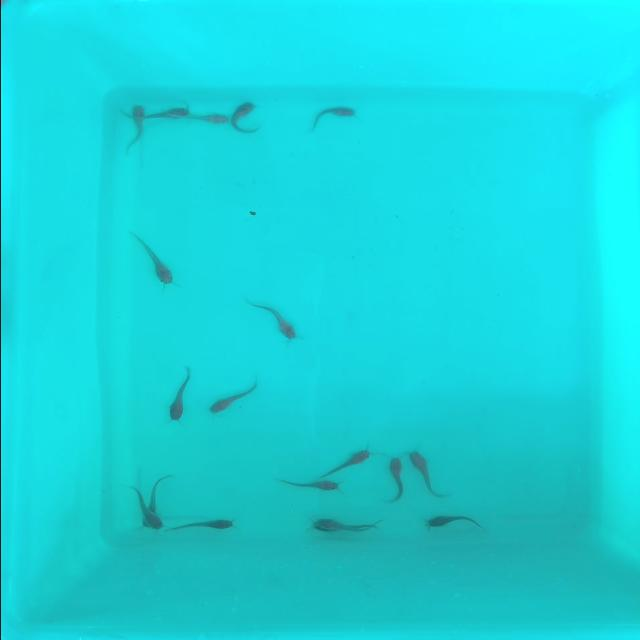lele: (122, 230, 176, 290), (242, 298, 300, 346), (402, 449, 443, 504), (206, 380, 262, 418), (317, 450, 373, 484), (129, 482, 163, 534), (166, 366, 193, 424), (162, 520, 236, 540), (270, 476, 342, 494), (423, 516, 483, 534), (310, 107, 355, 131), (142, 470, 170, 505), (385, 454, 405, 502), (230, 100, 253, 140), (307, 523, 376, 533), (142, 108, 190, 120), (184, 114, 228, 125), (132, 104, 143, 146), (317, 520, 387, 526)
